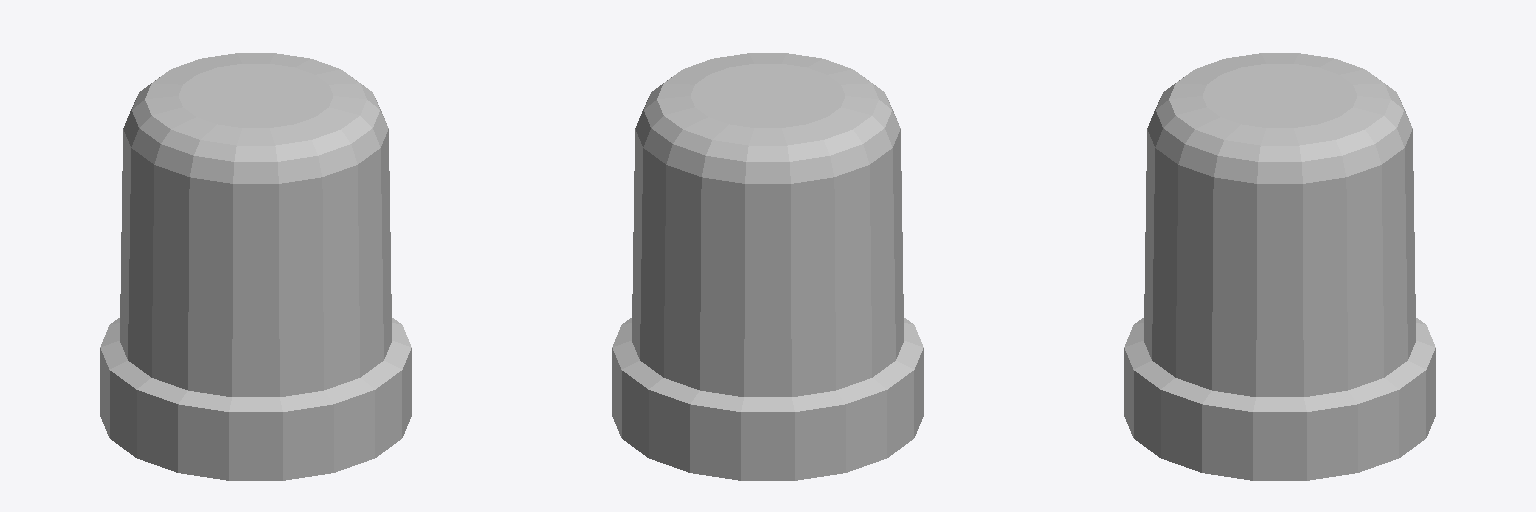
The model's file is lamp.obj.
3 views of the same model, side by side, from view 1: azimuth 30°, elevation 25°; view 2: azimuth 150°, elevation 25°; view 3: azimuth 270°, elevation 25° (orthographic).
Parts seen in each view (by area): view 1: Plane01.001; view 2: Plane01.001; view 3: Plane01.001.
Part boxes in pixels (bbox=[...]): Plane01.001: bbox=[100, 53, 411, 480]; Plane01.001: bbox=[612, 53, 923, 480]; Plane01.001: bbox=[1124, 53, 1435, 480].
Bounding box in the file's own units: 0.1104 × 0.127 × 0.1121.